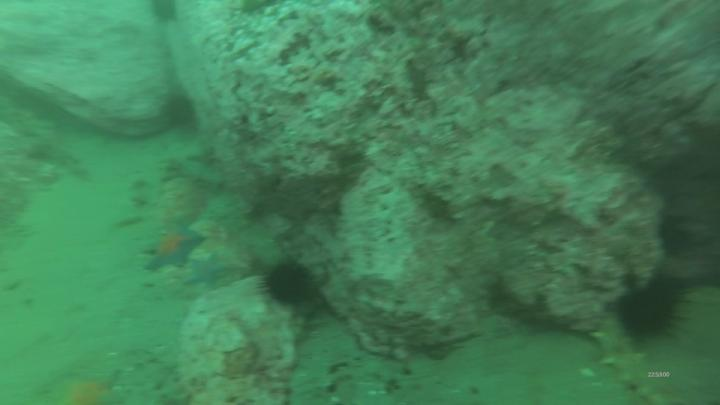echinus: (625, 282, 679, 336), (266, 262, 314, 306), (163, 94, 198, 131)
holothurian: (591, 321, 669, 405), (167, 159, 226, 190)
scallop: (577, 368, 595, 382)
starfish: (145, 228, 208, 265), (58, 371, 118, 405), (184, 263, 221, 283)
